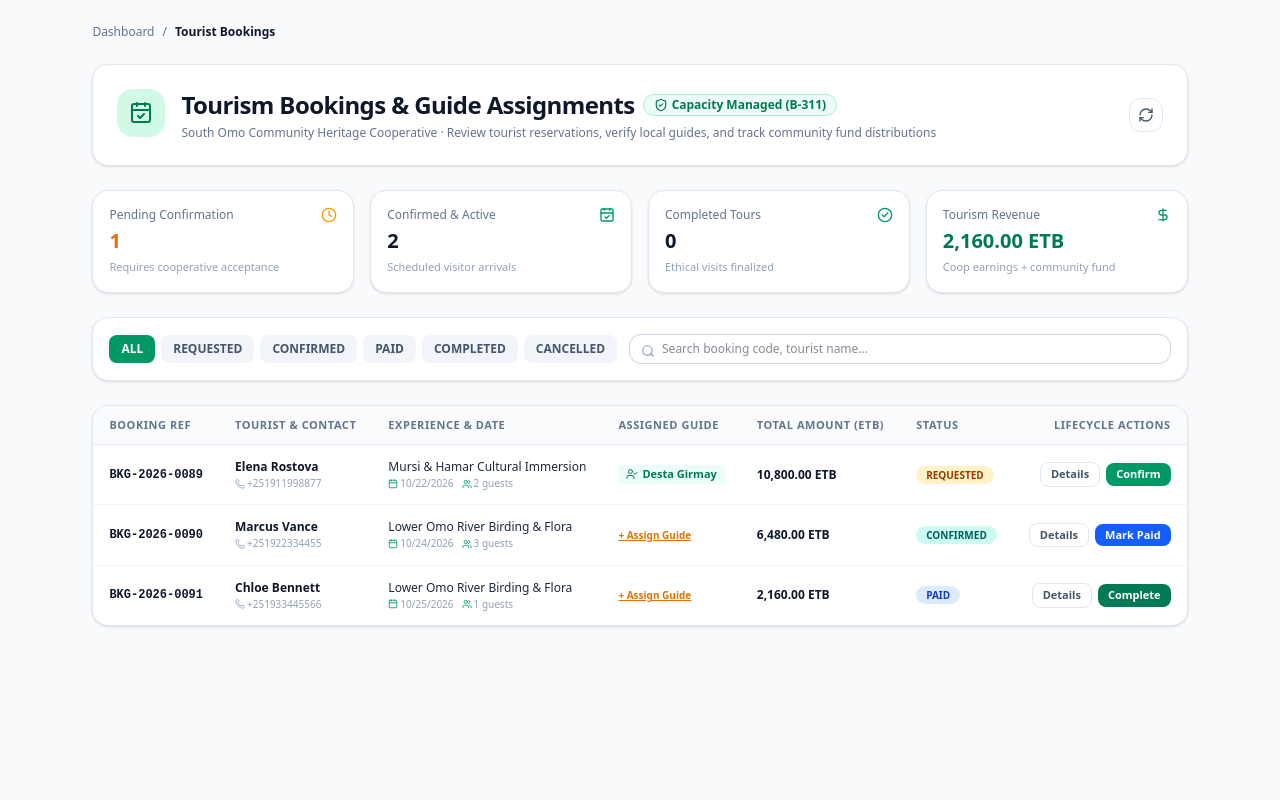
Test case: F-912: Tourism Bookings Lifecycle & Guide Assignment › opens booking detail modal with full fee and pricing breakdown
What coordinates should you click on to do the following:
click the button with test id "view-booking-book-001"
I would click on:
 (1070, 475)
Its box is [1040,462,1100,487].
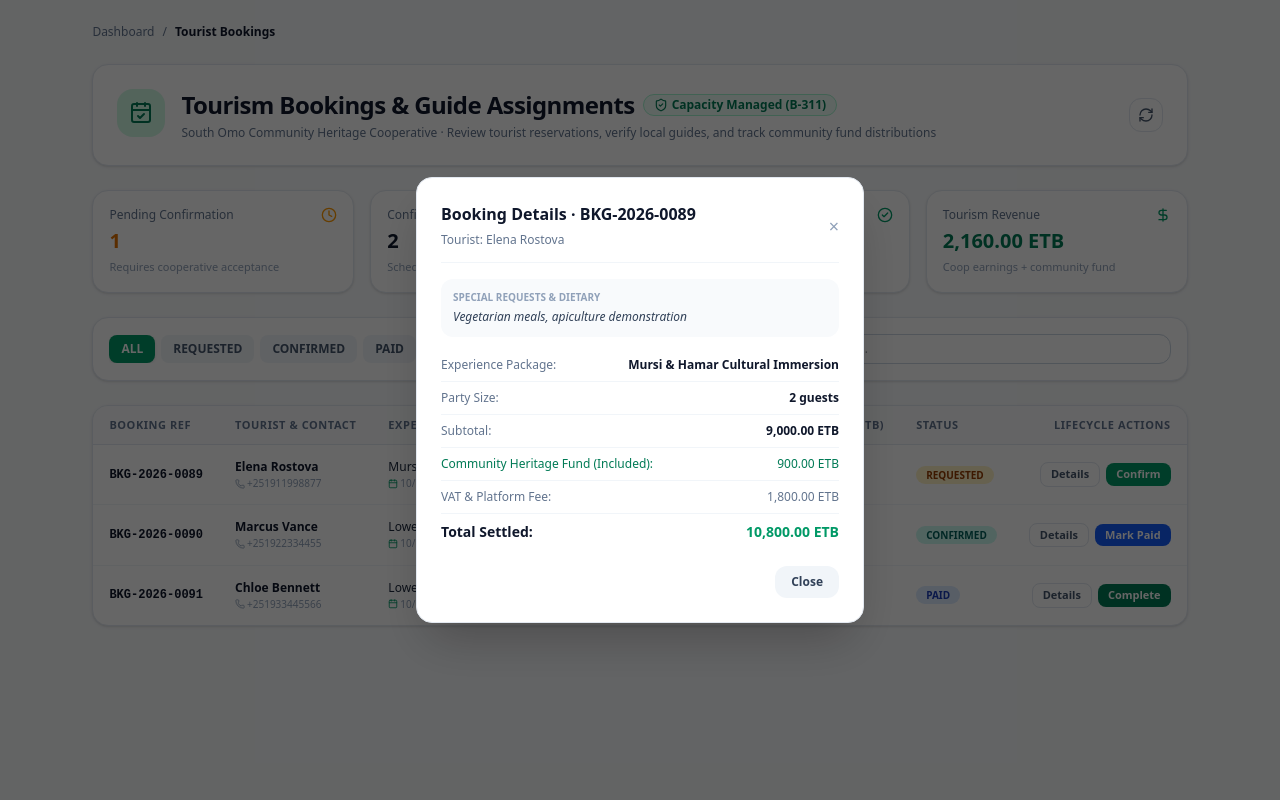
Expected: the element with test id "booking-details-modal" is shown
Expected: the text "Vegetarian meals, apiculture demonstration" is shown, [453,308,687,325]
Expected: the text "Community Heritage Fund (Included):" is shown, [441,456,653,472]
